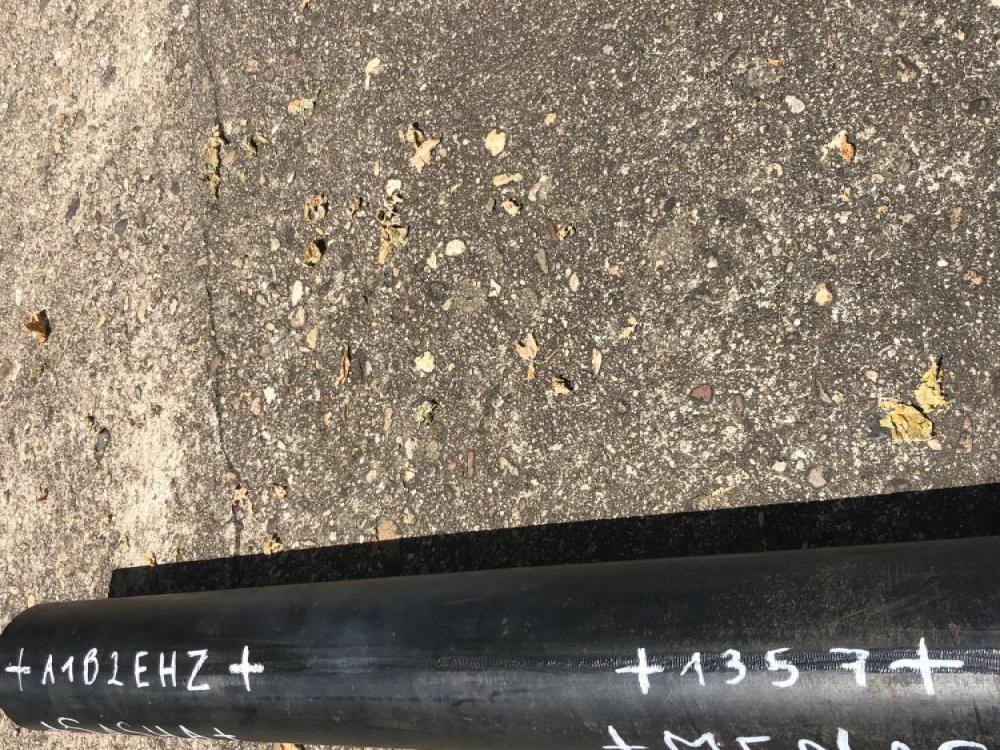+: (75, 668, 150, 722), (74, 462, 137, 499), (80, 172, 139, 199), (78, 4, 138, 24), (14, 160, 30, 179)
1: (86, 510, 131, 531), (90, 46, 126, 56)
2: (86, 80, 133, 93)
3: (88, 541, 136, 560)
5: (85, 574, 138, 600)
7: (84, 622, 136, 654)
A: (88, 32, 128, 42)
B: (86, 62, 137, 76)
E: (84, 100, 133, 113)
H: (81, 119, 135, 133)
Z: (80, 140, 135, 158)
